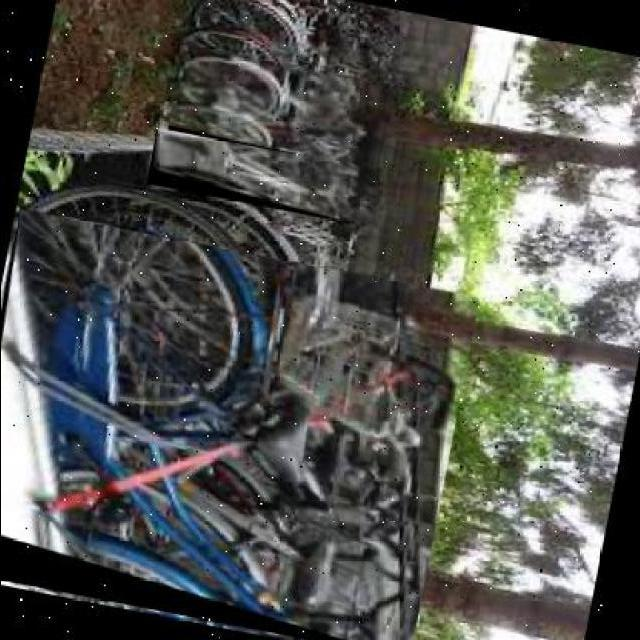bicycle: (3, 209, 481, 640), (144, 101, 392, 230), (166, 44, 394, 172)
